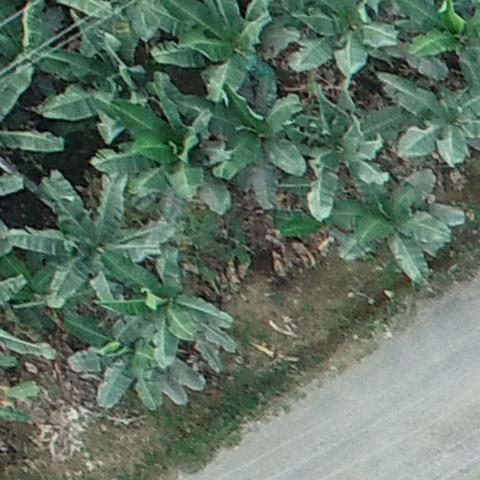Banana-plant: (18, 171, 174, 299), (93, 96, 234, 211), (110, 253, 235, 365), (72, 314, 202, 417), (337, 170, 453, 281), (28, 33, 151, 137), (292, 96, 401, 204), (160, 3, 279, 97), (282, 0, 402, 79), (377, 71, 480, 163), (214, 91, 302, 197), (403, 0, 480, 78)
